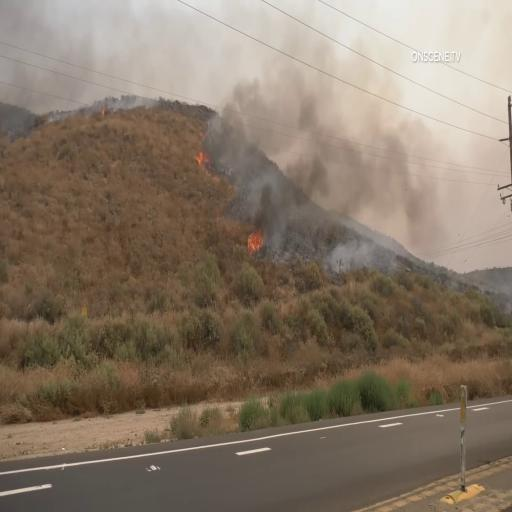fire: (249, 210, 268, 268), (196, 147, 214, 175)
smoke: (222, 72, 471, 210)
